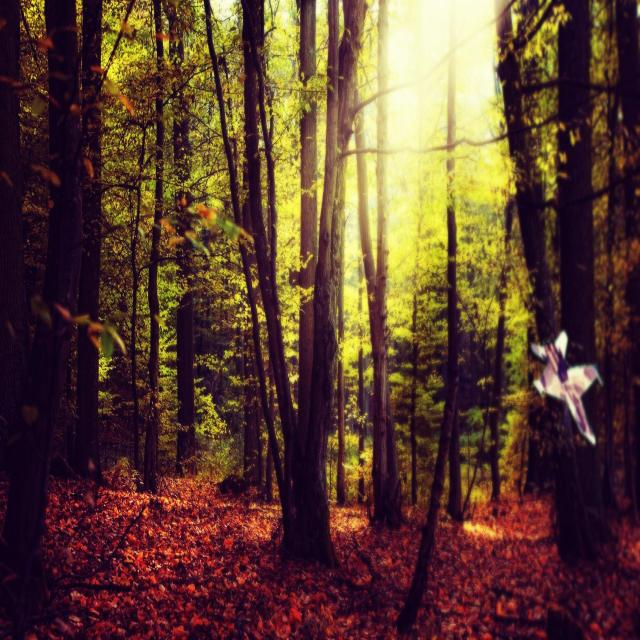airplane: (530, 330, 603, 446)
